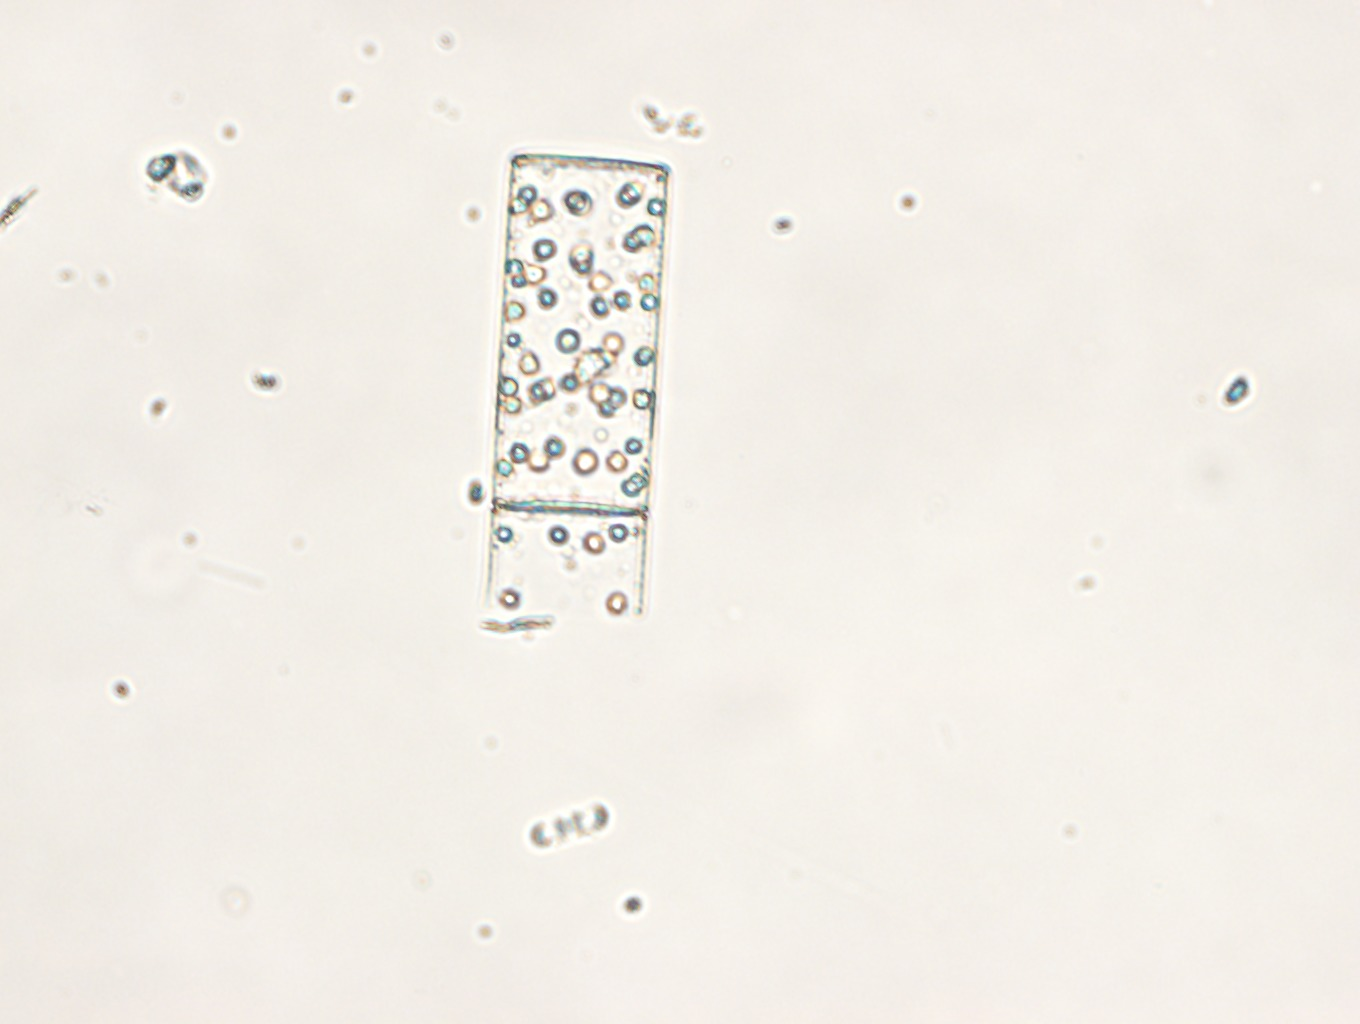guinardia flaccida: (486, 151, 670, 618)
